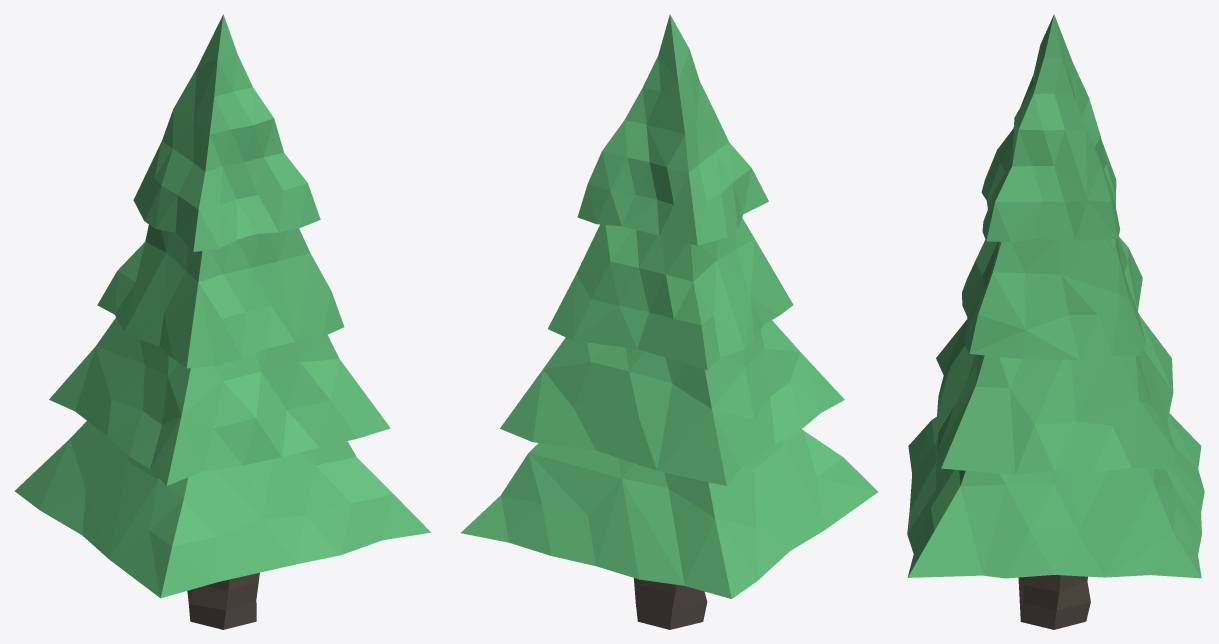
Rendered from tree5.fbx.
3 renders of one model, left to right at view 1: azimuth 30°, elevation 25°; view 2: azimuth 150°, elevation 25°; view 3: azimuth 270°, elevation 25°, orthographic.
Parts seen in each view (by area): view 1: Tree_6; view 2: Tree_6; view 3: Tree_6.
Part boxes in pixels (x1,y1,x2,y2): Tree_6: (15,14,430,629); Tree_6: (461,14,877,629); Tree_6: (907,14,1204,629).
Bounding box in the file's own units: 164 × 345 × 155.
